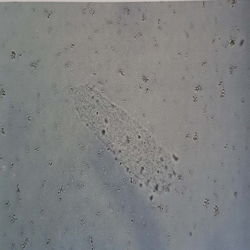Cast: (69, 82, 187, 199)
